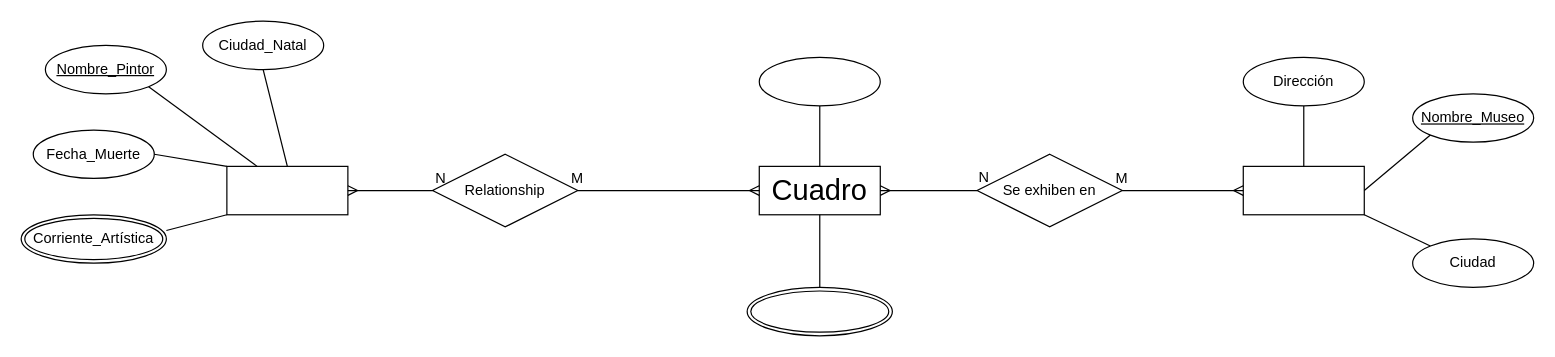
This 1555x357 diagram has some shape labels left out. Here are the shapes that lost their labels. From the top down, the centre of each, then its label:
At point (819, 81): "Título".
At point (287, 190): "Pintor".
At point (1303, 190): "Museo".
At point (819, 311): "Pintores".
